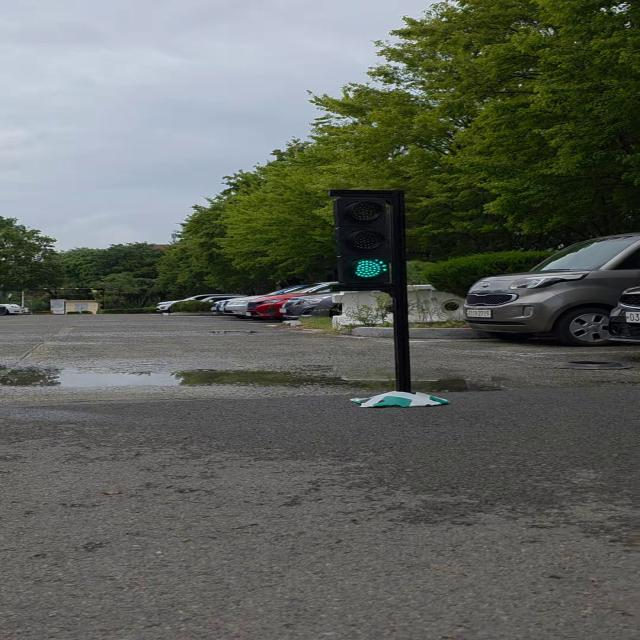green: (332, 194, 400, 288)
